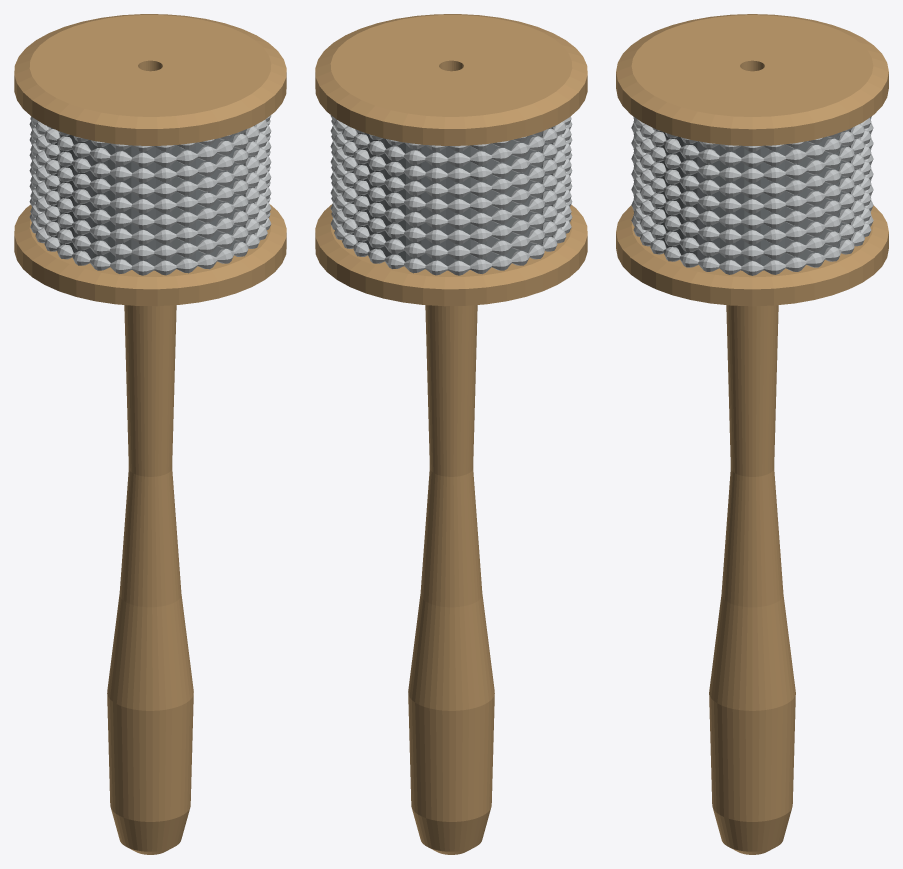
File: full.fbx
3 views of the same model, side by side, from view 1: azimuth 30°, elevation 25°; view 2: azimuth 150°, elevation 25°; view 3: azimuth 270°, elevation 25° (orthographic).
Parts seen in each view (by area): view 1: Bulb wooden handle, Front wood flange, Rear wood flange, Corrugated metal backing, Continuous bead chain row 1, Continuous bead chain row 6, Continuous bead chain row 2, Continuous bead chain row 4, Continuous bead chain row 5, Continuous bead chain row 3, Continuous bead chain row 0, Continuous bead chain row 7 (+1 smaller); view 2: Bulb wooden handle, Front wood flange, Rear wood flange, Corrugated metal backing, Continuous bead chain row 1, Continuous bead chain row 6, Continuous bead chain row 2, Continuous bead chain row 4, Continuous bead chain row 5, Continuous bead chain row 3, Continuous bead chain row 0, Continuous bead chain row 7 (+1 smaller); view 3: Bulb wooden handle, Front wood flange, Rear wood flange, Corrugated metal backing, Continuous bead chain row 5, Continuous bead chain row 3, Continuous bead chain row 1, Continuous bead chain row 0, Continuous bead chain row 2, Continuous bead chain row 4, Continuous bead chain row 6, Continuous bead chain row 7 (+1 smaller).
Boxes of the visible parts, bbox=[...] form: Bulb wooden handle: bbox=[107, 305, 193, 854]; Front wood flange: bbox=[14, 14, 286, 145]; Rear wood flange: bbox=[14, 204, 286, 306]; Corrugated metal backing: bbox=[51, 128, 252, 270]; Continuous bead chain row 1: bbox=[29, 197, 271, 260]; Continuous bead chain row 6: bbox=[29, 119, 271, 182]; Continuous bead chain row 2: bbox=[29, 181, 271, 244]; Continuous bead chain row 4: bbox=[29, 150, 271, 213]; Continuous bead chain row 5: bbox=[29, 135, 271, 198]; Continuous bead chain row 3: bbox=[29, 166, 271, 229]; Continuous bead chain row 0: bbox=[29, 212, 271, 275]; Continuous bead chain row 7: bbox=[30, 115, 271, 167]; Bulb wooden handle: bbox=[408, 305, 494, 854]; Front wood flange: bbox=[315, 14, 587, 145]; Rear wood flange: bbox=[315, 204, 587, 306]; Corrugated metal backing: bbox=[349, 128, 550, 270]; Continuous bead chain row 1: bbox=[330, 197, 572, 260]; Continuous bead chain row 6: bbox=[330, 119, 572, 182]; Continuous bead chain row 2: bbox=[330, 181, 572, 244]; Continuous bead chain row 4: bbox=[330, 150, 572, 213]; Continuous bead chain row 5: bbox=[330, 135, 572, 198]; Continuous bead chain row 3: bbox=[330, 166, 572, 229]; Continuous bead chain row 0: bbox=[330, 212, 572, 275]; Continuous bead chain row 7: bbox=[330, 115, 571, 167]; Bulb wooden handle: bbox=[709, 305, 795, 854]; Front wood flange: bbox=[616, 14, 888, 145]; Rear wood flange: bbox=[616, 205, 888, 306]; Corrugated metal backing: bbox=[649, 130, 855, 270]; Continuous bead chain row 5: bbox=[631, 133, 873, 198]; Continuous bead chain row 3: bbox=[631, 164, 873, 229]; Continuous bead chain row 1: bbox=[631, 195, 873, 260]; Continuous bead chain row 0: bbox=[631, 211, 873, 275]; Continuous bead chain row 2: bbox=[631, 180, 873, 244]; Continuous bead chain row 4: bbox=[631, 149, 873, 213]; Continuous bead chain row 6: bbox=[631, 118, 873, 182]; Continuous bead chain row 7: bbox=[633, 116, 871, 167].
Size of the model in its own units: 8.8 by 27.8 by 8.8.
